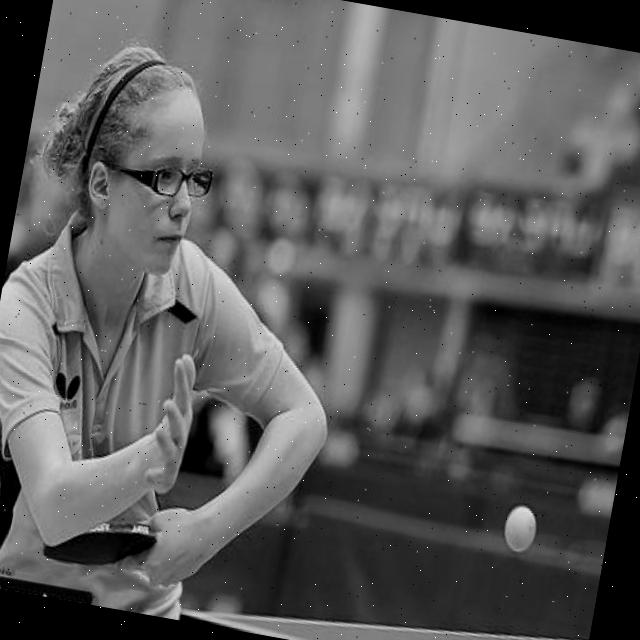ping-pong-ball: (499, 501, 538, 554)
